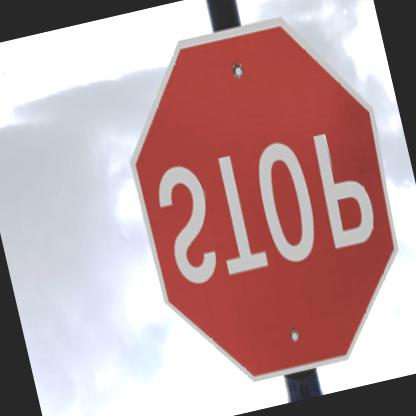stop: (105, 0, 415, 402)
